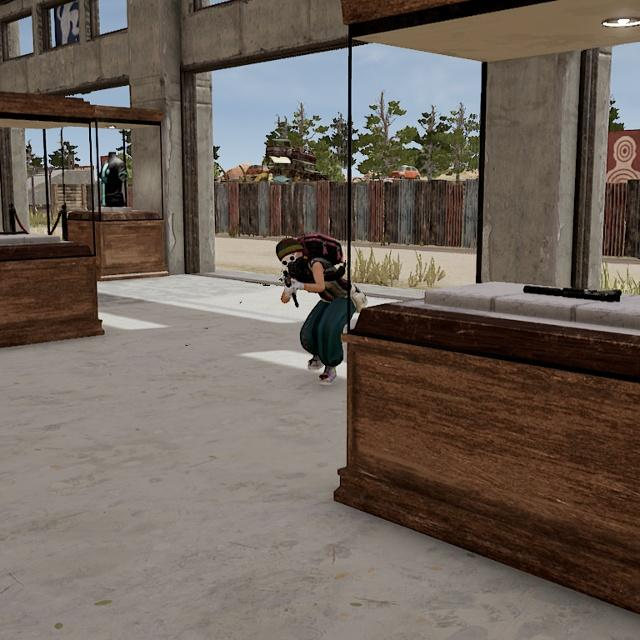head: (274, 236, 307, 272)
people: (273, 235, 366, 387)
